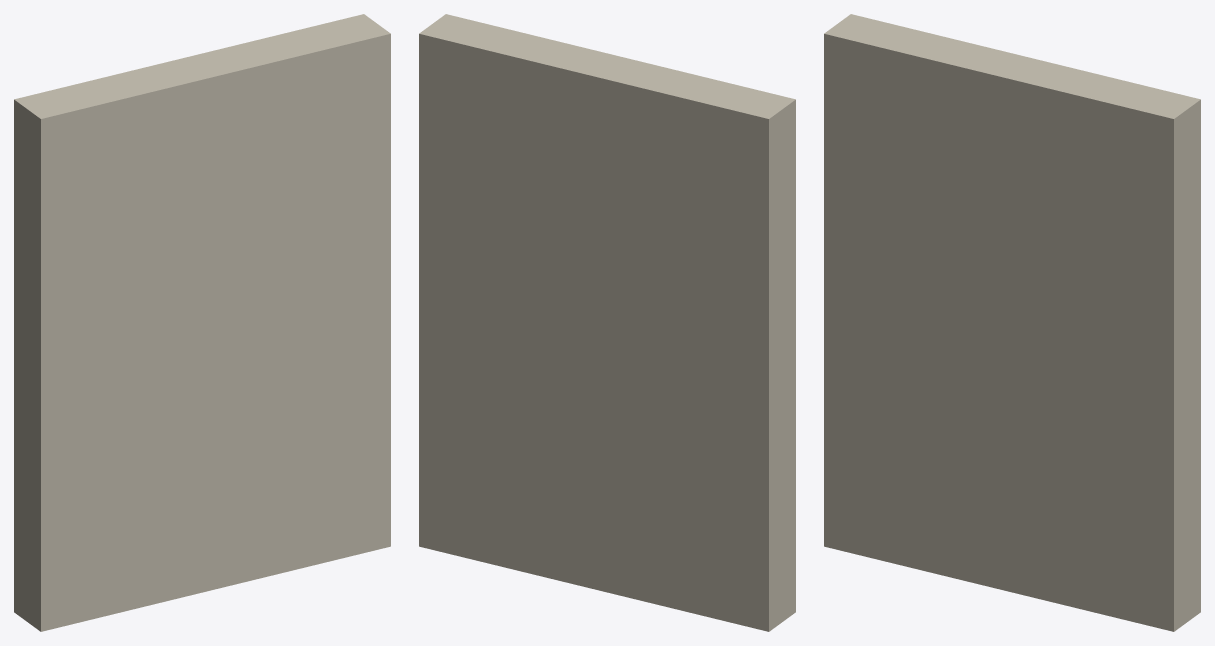
Rendered from foto.glb.
3 renders of one model, left to right at view 1: azimuth 30°, elevation 25°; view 2: azimuth 150°, elevation 25°; view 3: azimuth 330°, elevation 25°, orthographic.
Visible parts, largest first — view 1: Foto; view 2: Foto; view 3: Foto.
Boxes of the visible parts, x1,y1,x2,y2 form: Foto: [14, 14, 390, 631]; Foto: [419, 14, 795, 631]; Foto: [824, 14, 1200, 631].
Size of the model in its own units: 0.3 by 0.42 by 0.04.
